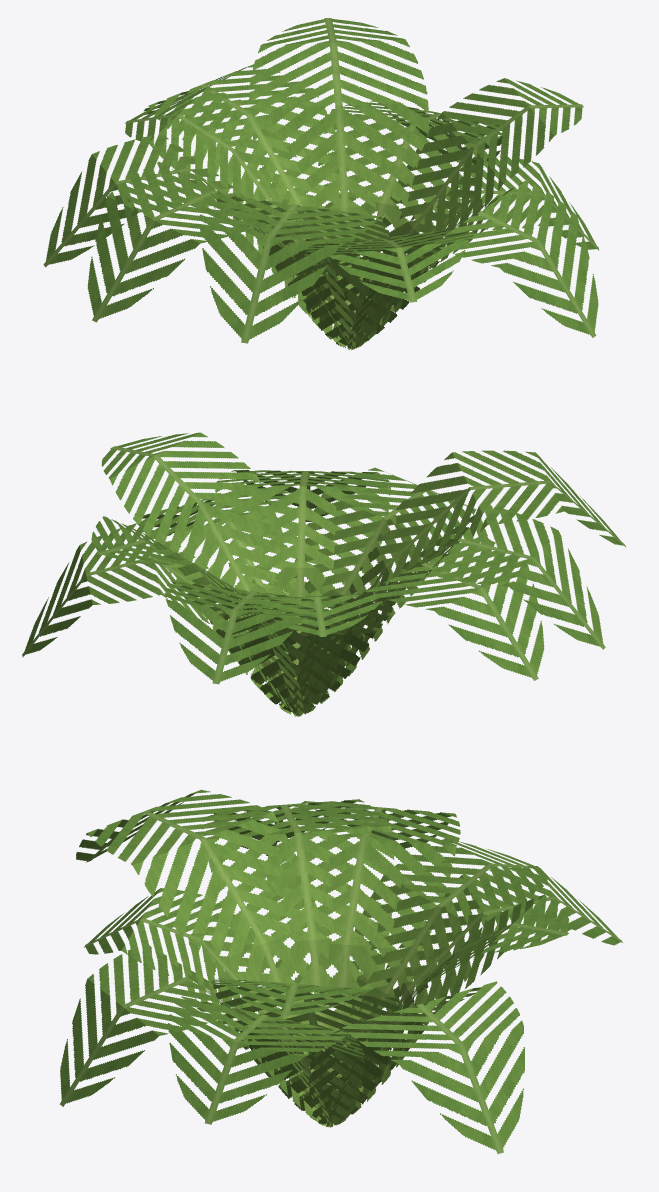
The model's file is fern_clump.glb.
3 renders of one model, top to bottom at view 1: azimuth 30°, elevation 25°; view 2: azimuth 150°, elevation 25°; view 3: azimuth 270°, elevation 25°, orthographic. The views are drawn at different scales.
Parts seen in each view (by area): view 1: fern_clump; view 2: fern_clump; view 3: fern_clump.
Part boxes in pixels (<box>): fern_clump: <box>43,18,599,349</box>; fern_clump: <box>22,432,625,716</box>; fern_clump: <box>60,789,622,1153</box>.
Size of the model in its own units: 1.16 by 0.4601 by 1.11.
1 material, 1 textured.
